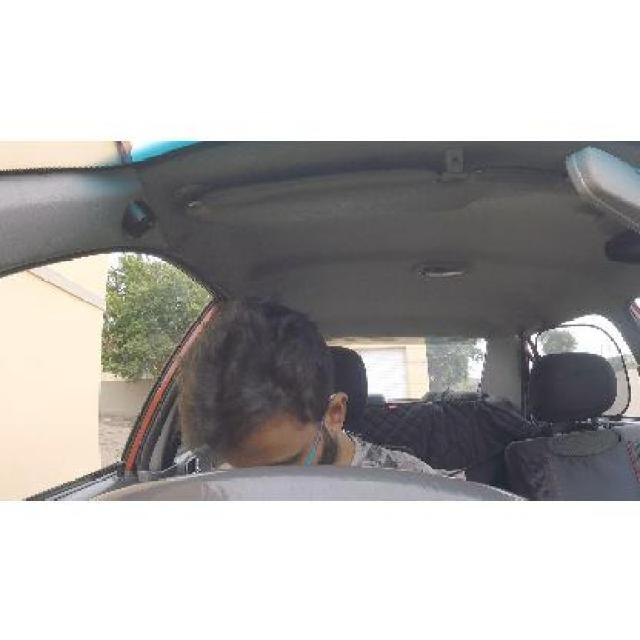drowsy: (171, 307, 373, 467)
